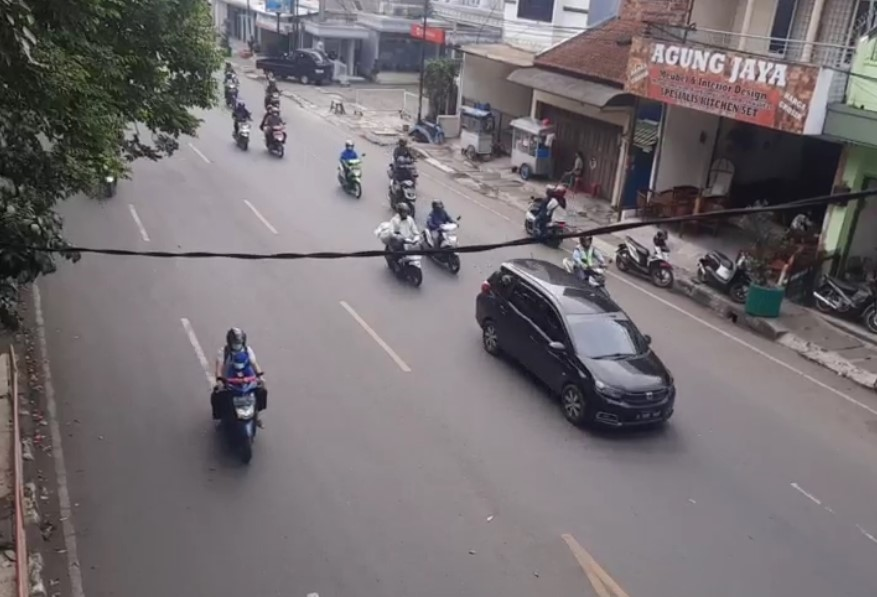mobil: (474, 254, 679, 438)
motor: (208, 327, 275, 455), (376, 209, 425, 290), (421, 203, 468, 274), (332, 140, 367, 201), (260, 101, 287, 159), (229, 100, 252, 145)
